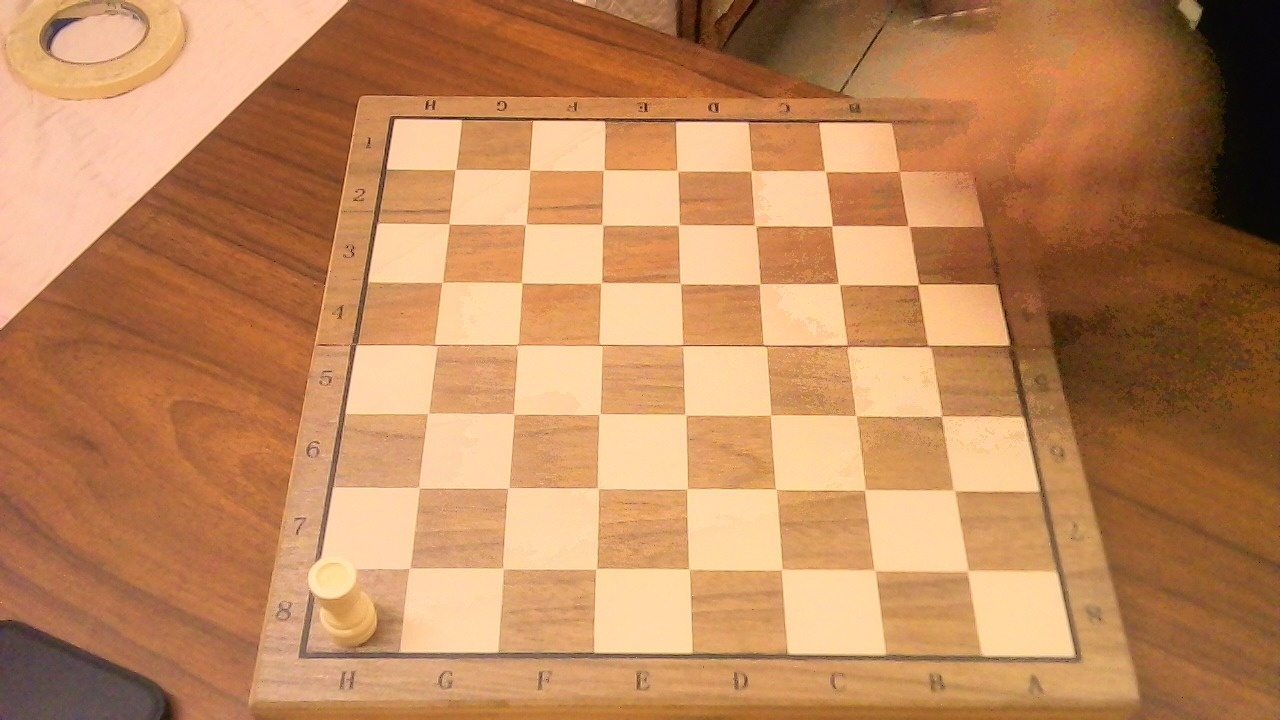R: (304, 545, 391, 649)
